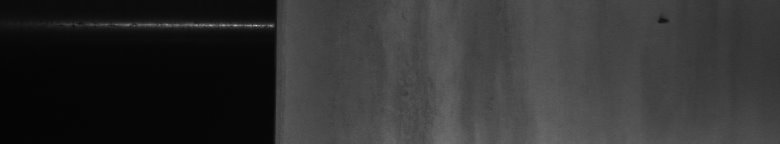fi: (656, 8, 672, 32)
